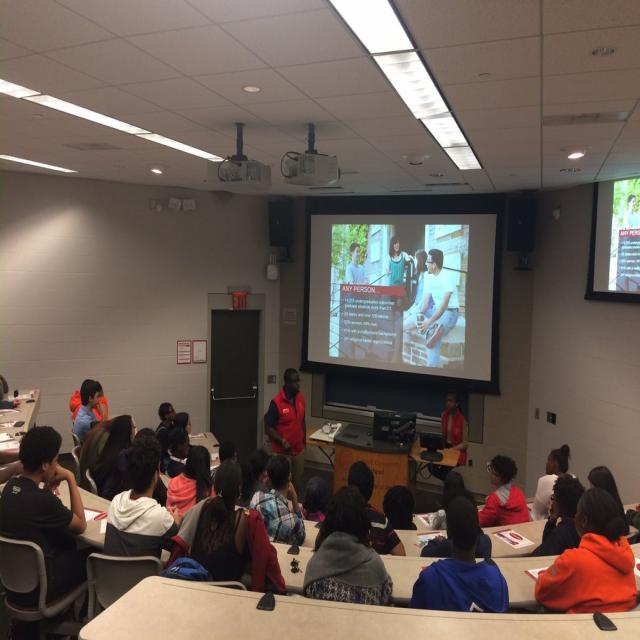body: (0, 425, 103, 620), (164, 457, 286, 595), (342, 232, 461, 368), (533, 486, 639, 614), (408, 494, 510, 614), (301, 485, 395, 607), (102, 432, 184, 559), (263, 366, 307, 504), (348, 461, 407, 557), (248, 453, 307, 548), (419, 488, 494, 560), (105, 426, 168, 508), (529, 473, 587, 557), (79, 413, 136, 494), (477, 453, 531, 528), (427, 388, 470, 482), (528, 443, 578, 522), (165, 445, 216, 518), (95, 413, 136, 501), (587, 465, 631, 537), (71, 378, 108, 448), (237, 449, 274, 513), (72, 378, 102, 444), (290, 475, 331, 523), (441, 470, 480, 513), (382, 485, 417, 530), (208, 442, 239, 487), (164, 432, 192, 479), (0, 445, 23, 487), (154, 402, 177, 443), (0, 371, 22, 412), (619, 189, 639, 230), (624, 504, 640, 532), (172, 412, 192, 434)
